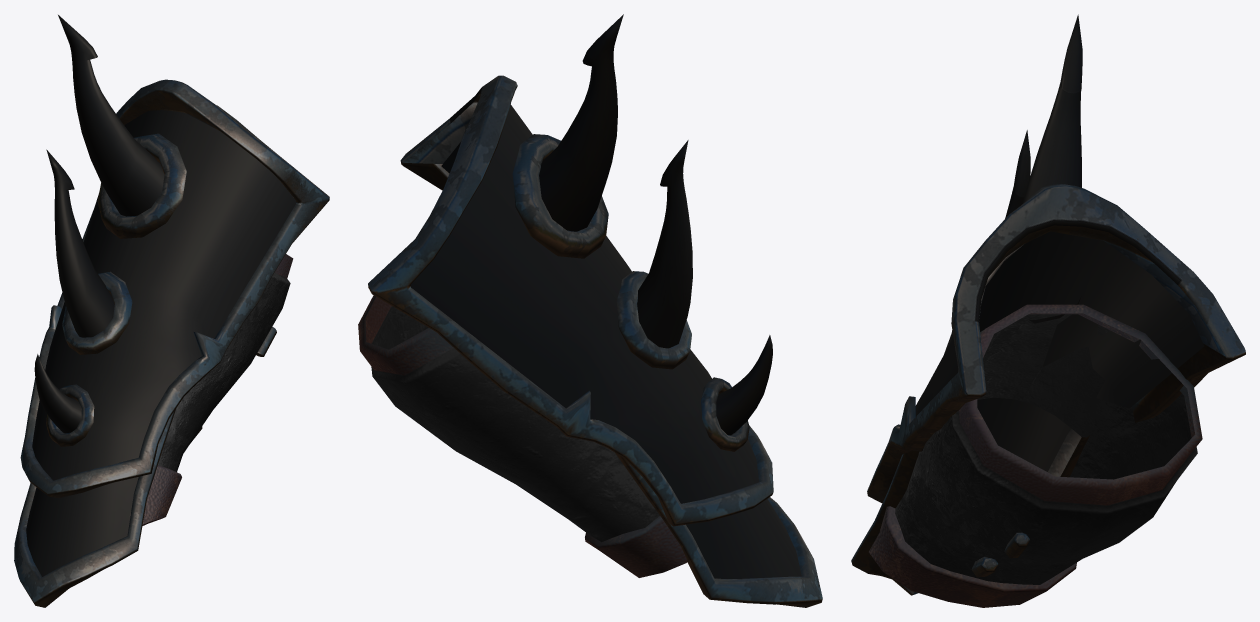
The model's file is SM_ScortchedHand_R.gltf.
3 renders of one model, left to right at view 1: azimuth 30°, elevation 25°; view 2: azimuth 150°, elevation 25°; view 3: azimuth 270°, elevation 25°, orthographic. The views are drawn at different scales.
Visible parts, largest first — view 1: SM_ScortchedHand_R; view 2: SM_ScortchedHand_R; view 3: SM_ScortchedHand_R.
Boxes of the visible parts, <box> form: SM_ScortchedHand_R: <box>14,15,329,607</box>; SM_ScortchedHand_R: <box>358,14,822,607</box>; SM_ScortchedHand_R: <box>851,14,1245,607</box>.
Bounding box in the file's own units: 0.3014 × 0.4698 × 0.2669.
Materials: 1 (1 with a texture image).
